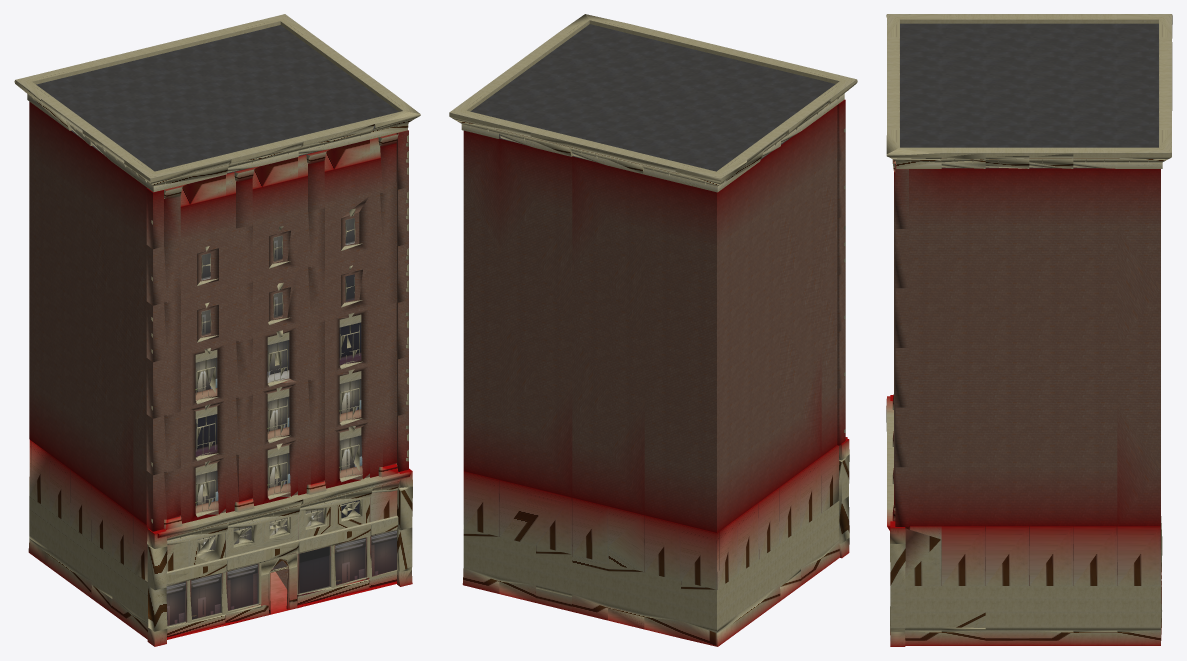
File: la-building-medium-lod.glb
3 views of the same model, side by side, from view 1: azimuth 30°, elevation 25°; view 2: azimuth 150°, elevation 25°; view 3: azimuth 270°, elevation 25° (orthographic). The views are drawn at different scales.
Parts seen in each view (by area): view 1: Building_Medium_2.001; view 2: Building_Medium_2.001; view 3: Building_Medium_2.001.
Boxes of the visible parts, x1,y1,x2,y2 form: Building_Medium_2.001: (14,14,420,646); Building_Medium_2.001: (449,14,857,646); Building_Medium_2.001: (886,14,1172,646).
Bounding box in the file's own units: 15.06 × 25.01 × 13.06.
Materials: 8 (7 with a texture image).
